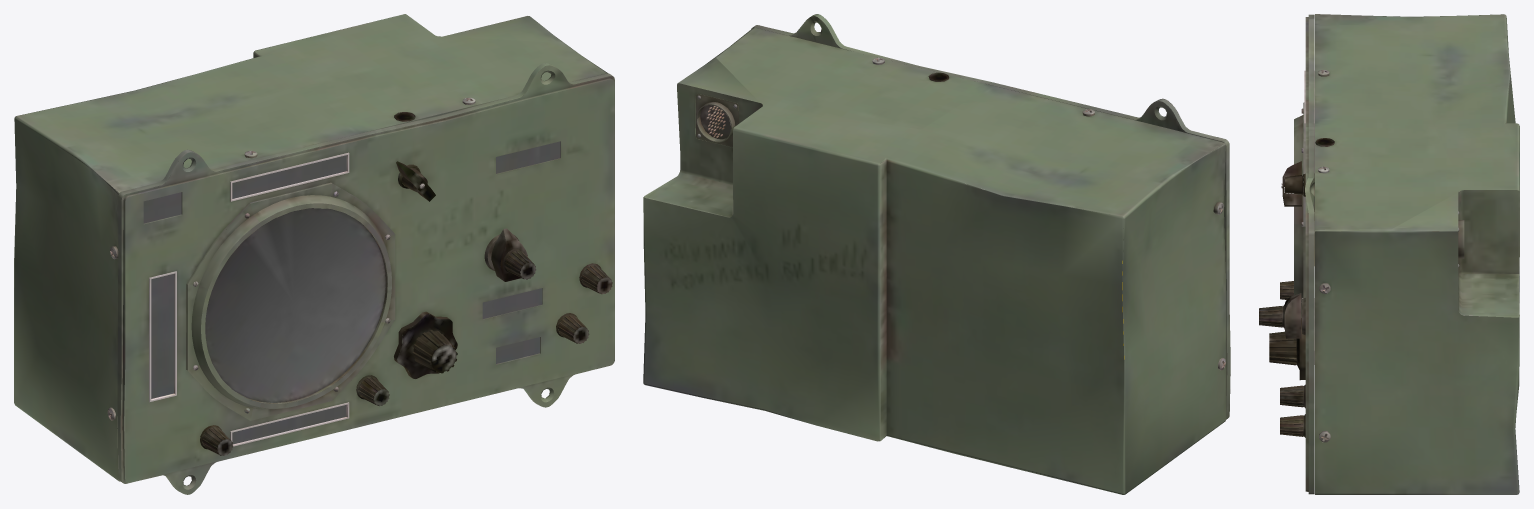
The model's file is vintage_spacecraft_instrument.glb.
3 renders of one model, left to right at view 1: azimuth 30°, elevation 25°; view 2: azimuth 150°, elevation 25°; view 3: azimuth 270°, elevation 25°, orthographic. The views are drawn at different scales.
Visible parts, largest first — view 1: vintage_spacecraft_instrument; view 2: vintage_spacecraft_instrument; view 3: vintage_spacecraft_instrument.
Part boxes in pixels (bbox=[...]): vintage_spacecraft_instrument: bbox=[14, 14, 614, 494]; vintage_spacecraft_instrument: bbox=[643, 14, 1230, 494]; vintage_spacecraft_instrument: bbox=[1259, 14, 1519, 494].
Size of the model in its own units: 0.4103 by 0.2693 by 0.2044.
2 materials, 2 textured.
